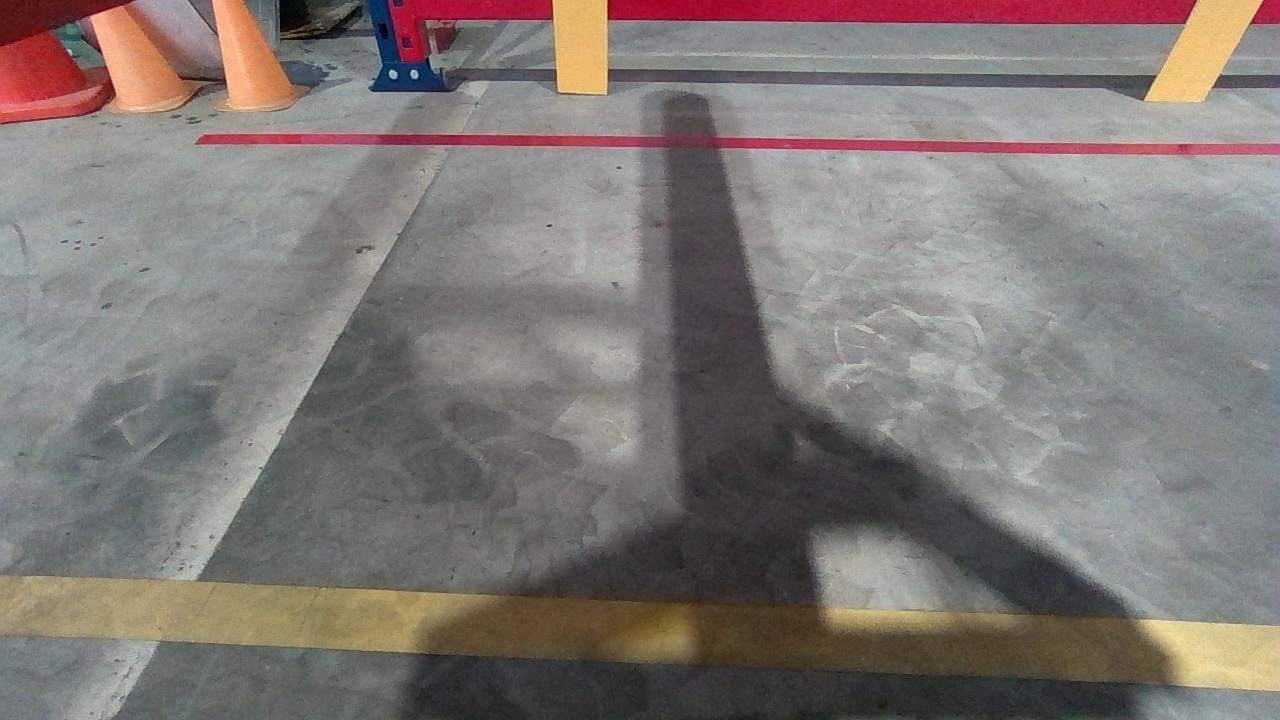h_rack: (398, 0, 1272, 24)
orange_strip: (1142, 0, 1270, 101), (550, 0, 608, 94)
red_line: (197, 127, 1278, 155)
yellow_line: (0, 576, 1279, 692)
